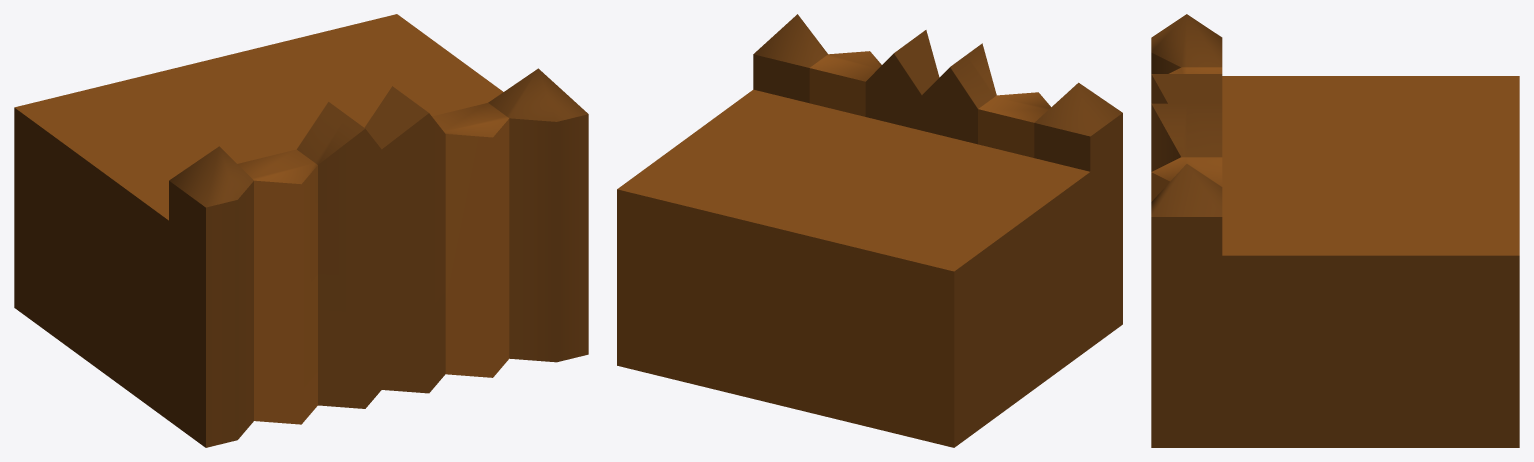
File: 1x1x5_onesided_wood.fbx
3 views of the same model, side by side, from view 1: azimuth 30°, elevation 25°; view 2: azimuth 150°, elevation 25°; view 3: azimuth 270°, elevation 25° (orthographic). The views are drawn at different scales.
Visible parts, largest first — view 1: polySurface1; view 2: polySurface1; view 3: polySurface1.
Boxes of the visible parts, left/top/right/bottom form: polySurface1: left=14, top=14, right=588, bottom=447; polySurface1: left=617, top=14, right=1122, bottom=447; polySurface1: left=1151, top=14, right=1519, bottom=447.
Size of the model in its own units: 100 by 70 by 86.67.
1 material, 1 textured.
